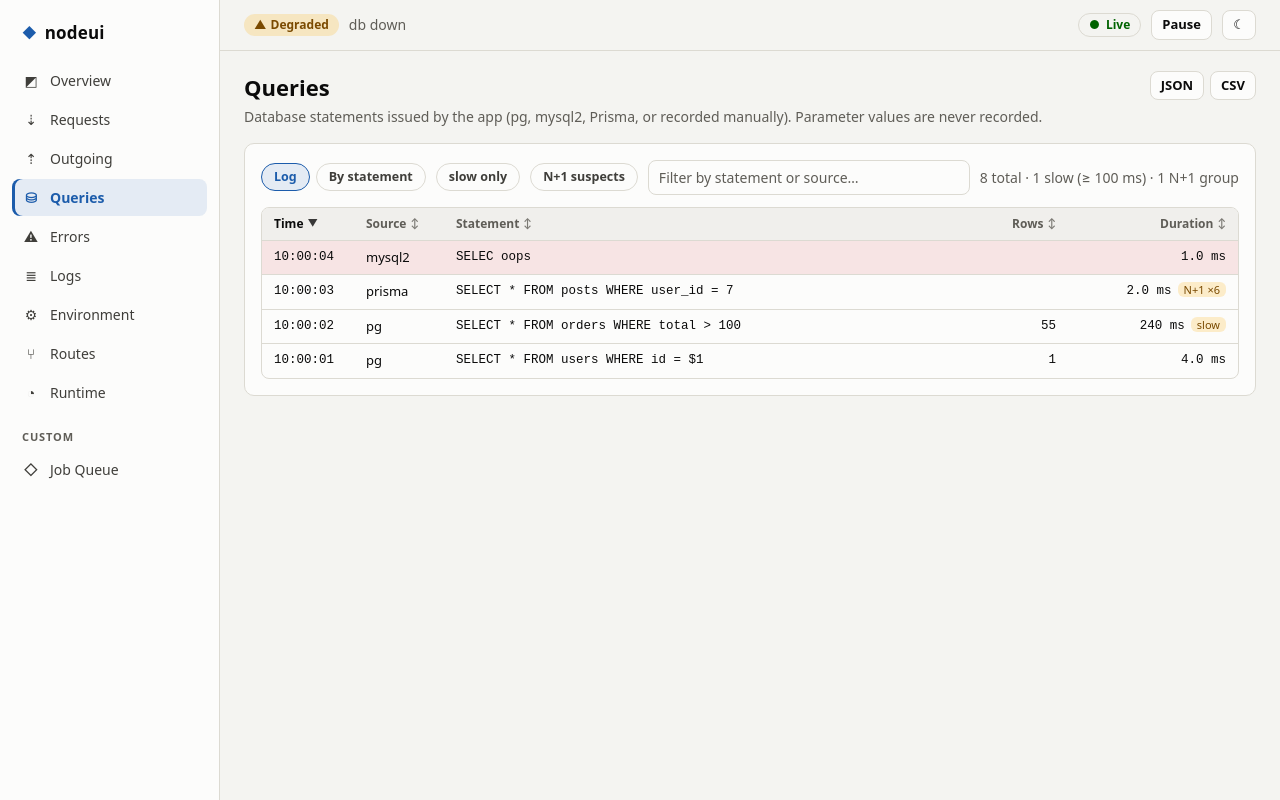
it: Queries by statement › tolerates an older server without statements
What coordinates should you click on to do the following:
click the button "By statement"
I would click on:
 (371, 177)
Its box is 316,163 -> 426,191.
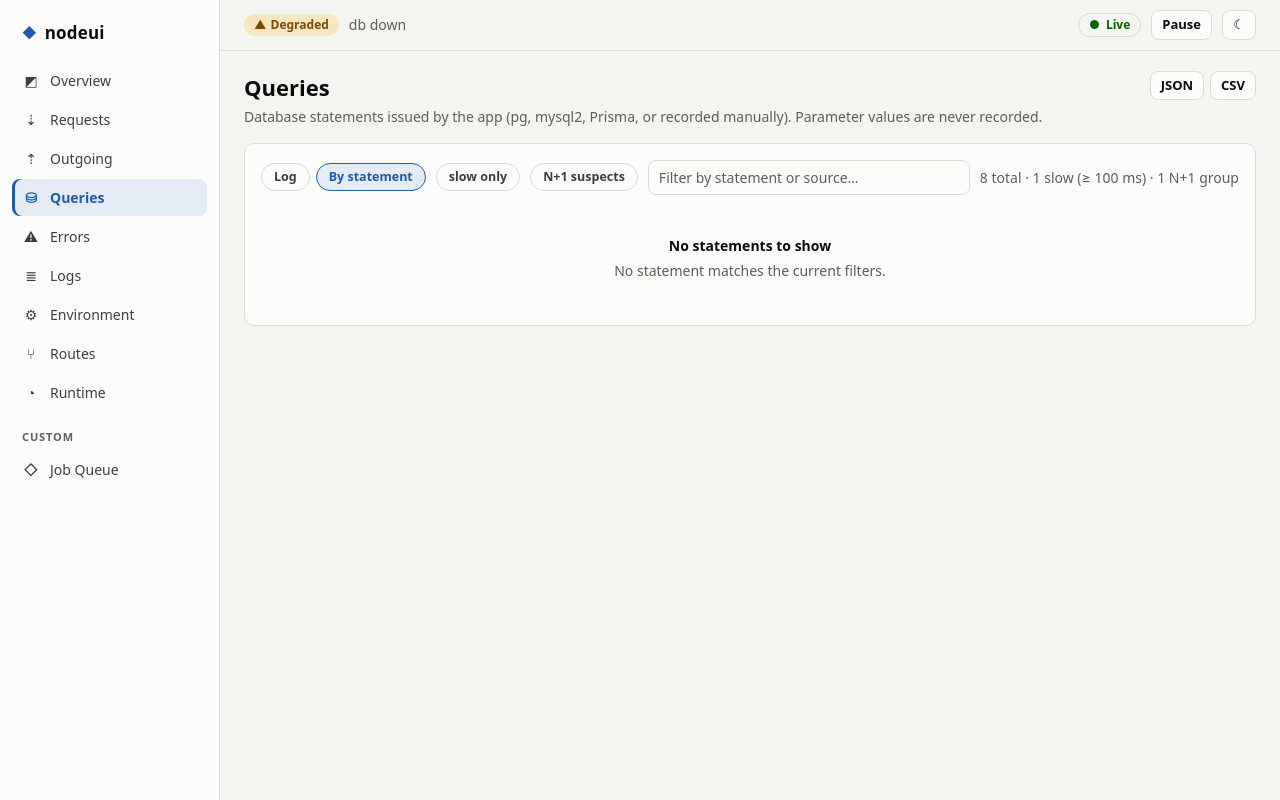
Result: the text "No statements to show" is shown at 669,236 -> 831,254
